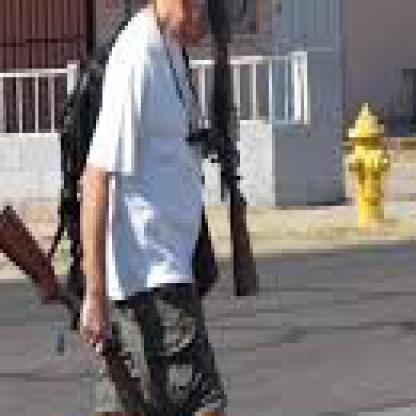gun: (0, 292, 413, 412)
